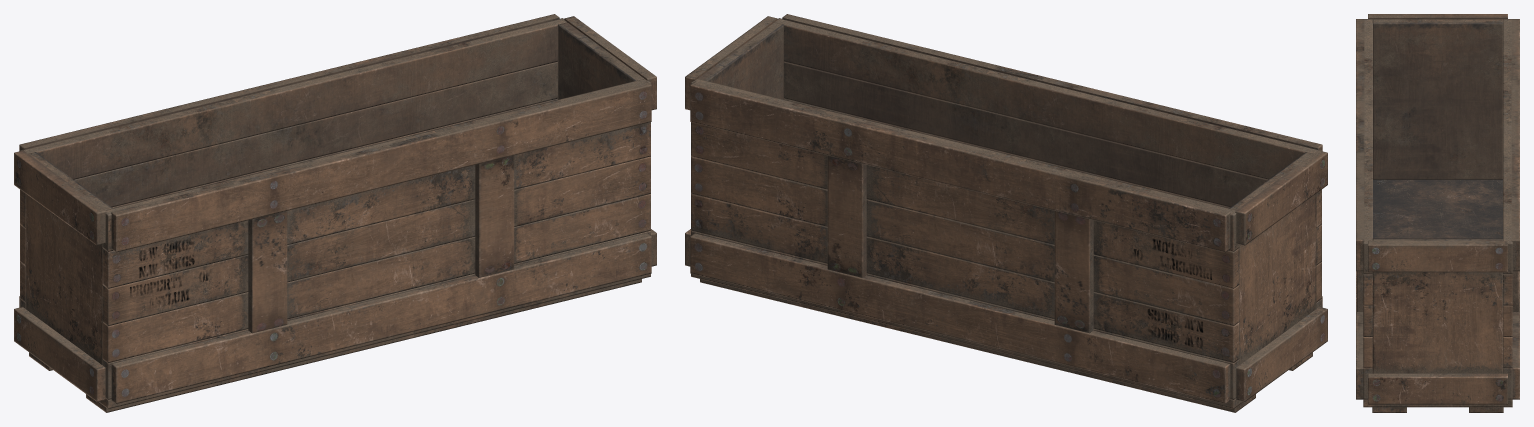
The picture shows the model from 3 angles, left to right: view 1: azimuth 30°, elevation 25°; view 2: azimuth 150°, elevation 25°; view 3: azimuth 270°, elevation 25°; orthographic projection. The views are drawn at different scales.
Visible parts, largest first — view 1: SM_Box01_2_LOD0; view 2: SM_Box01_2_LOD0; view 3: SM_Box01_2_LOD0.
Boxes of the visible parts, box(x1,y1,x2,y2) form: SM_Box01_2_LOD0: box(14, 14, 656, 412); SM_Box01_2_LOD0: box(685, 14, 1327, 412); SM_Box01_2_LOD0: box(1356, 14, 1519, 412).
Size of the model in its own units: 2.06 by 0.7201 by 0.6187.
1 material, 1 textured.
